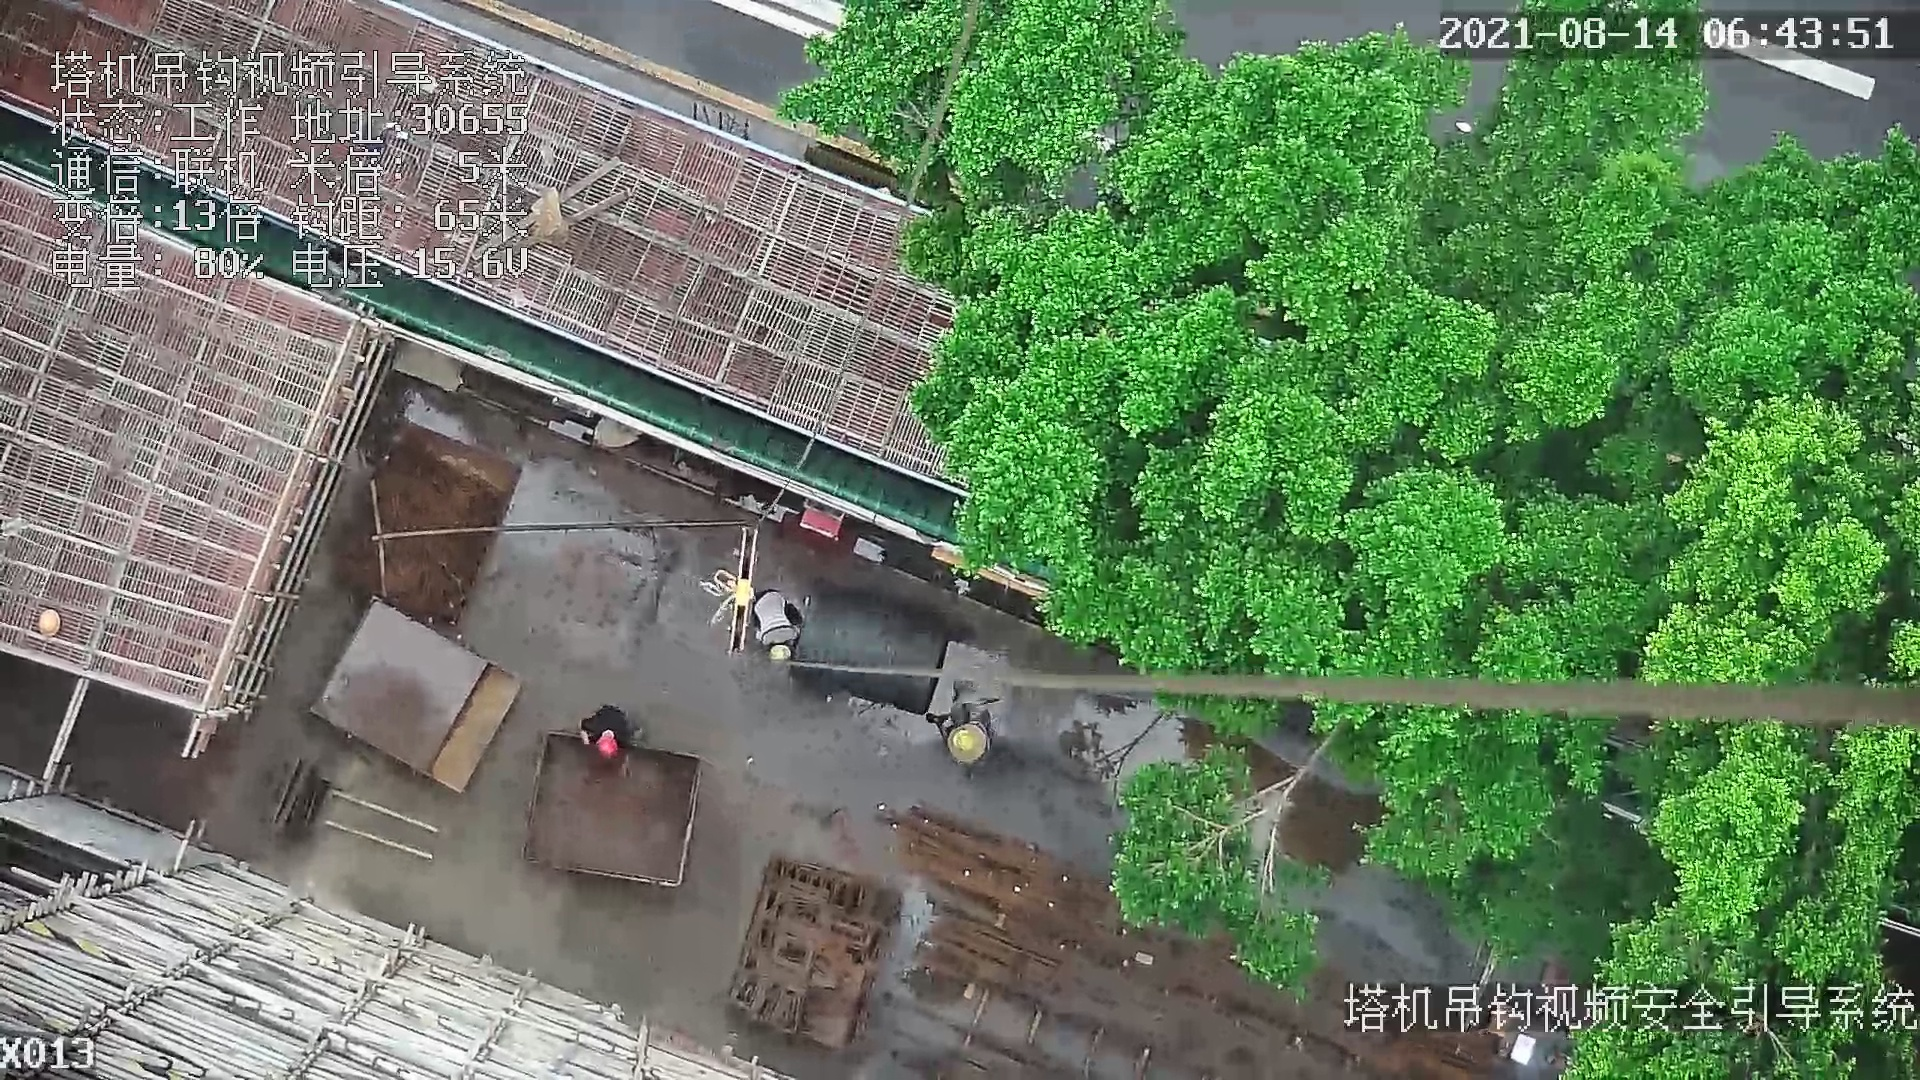helmet: (38, 609, 62, 639), (769, 641, 793, 663), (597, 737, 619, 761), (958, 728, 978, 752)
hook: (713, 527, 763, 658)
person: (927, 695, 994, 781), (749, 587, 807, 674), (581, 700, 641, 781)
